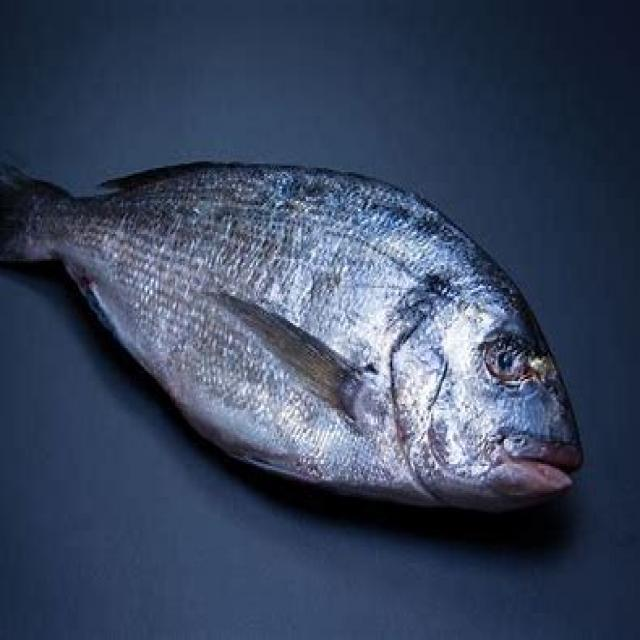Healthy Fish: (0, 95, 588, 549)
